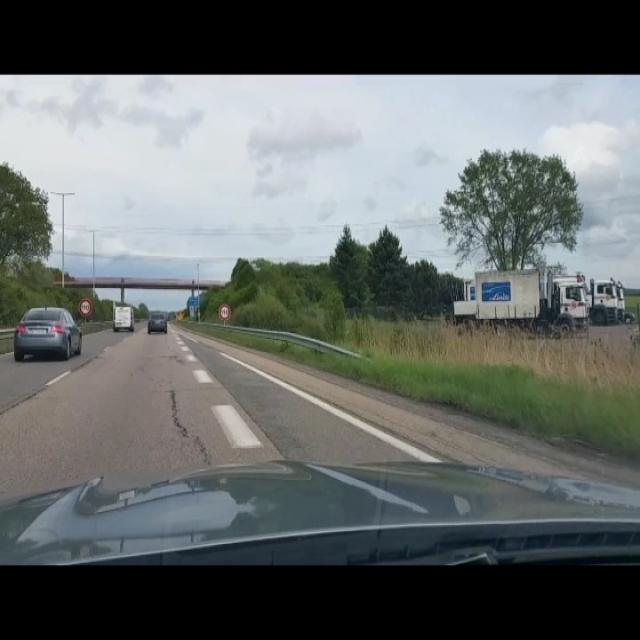speed_110: (78, 298, 92, 317), (218, 303, 232, 321)
